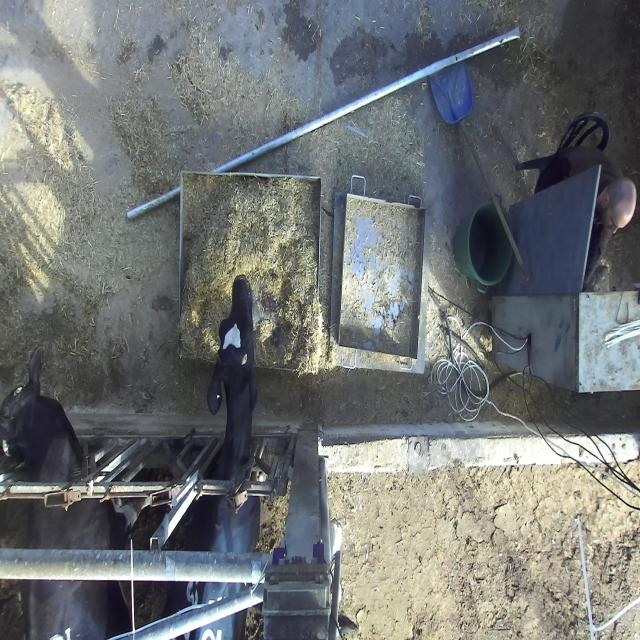cow: (205, 276, 259, 417), (0, 344, 43, 468)
